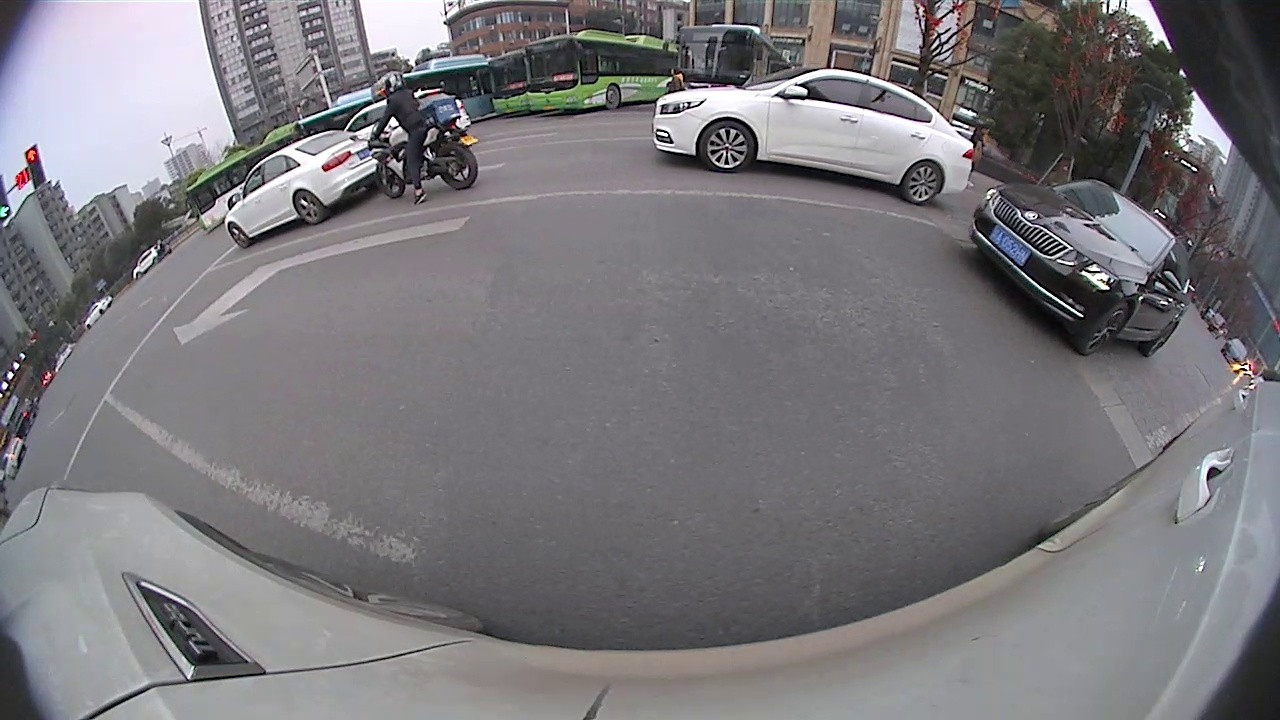bus: (521, 27, 686, 115), (183, 121, 300, 235), (671, 25, 794, 97), (484, 47, 533, 118)
car: (650, 65, 977, 208), (970, 176, 1193, 360), (224, 126, 384, 251), (343, 85, 471, 185)
front: (695, 117, 757, 176), (1077, 301, 1133, 360), (373, 153, 410, 201), (226, 224, 252, 250)
rear: (899, 155, 946, 207), (438, 143, 480, 193), (292, 187, 327, 227)
rider: (368, 70, 480, 206)
